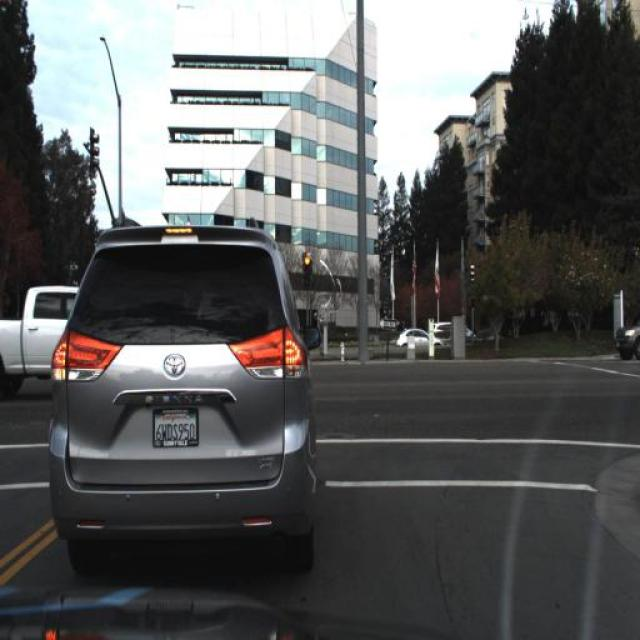car: (48, 214, 320, 575), (0, 281, 89, 395), (0, 278, 80, 399), (609, 310, 639, 365), (396, 326, 442, 352)
trafficLight-RedLeft: (300, 248, 312, 291)
